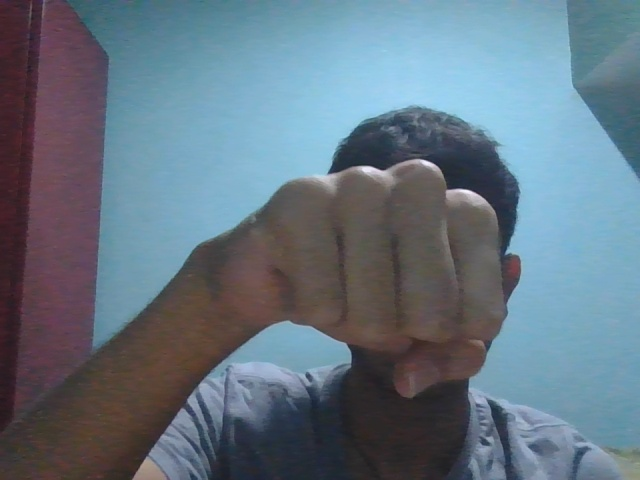yes: (168, 140, 548, 418)
